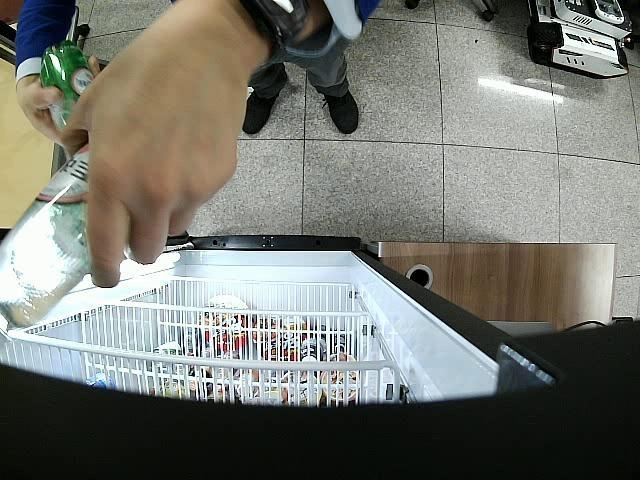18_trevi: (0, 148, 87, 330), (42, 41, 96, 130)
